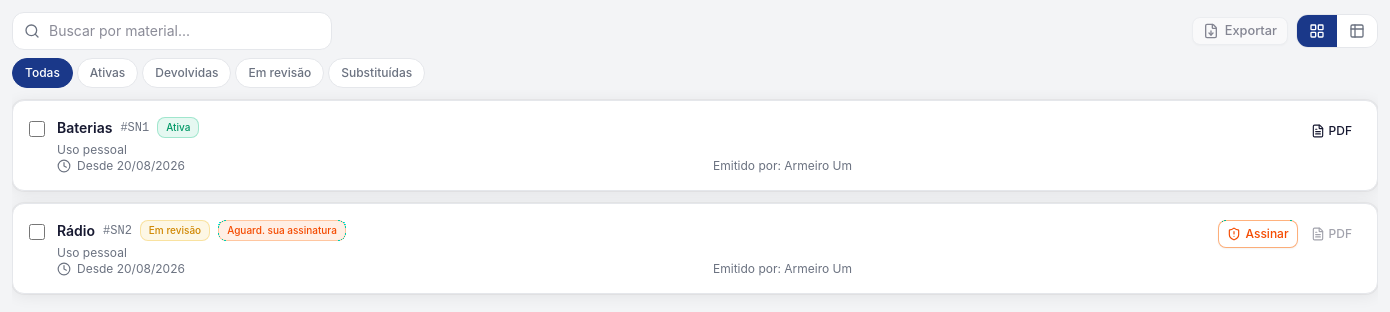
Test case: MinhasCautelasClient — abas de filtro › aba 'Ativas' exclui pendentes de assinatura; 'Em revisão' as inclui
The image size is (1390, 312).
Check: the number of elements with test id "cautela-card" is 2, box [12,100,1378,191]; [12,203,1378,294]
Click the button "Ativas" at point(108, 73), box [77,58,138,88]
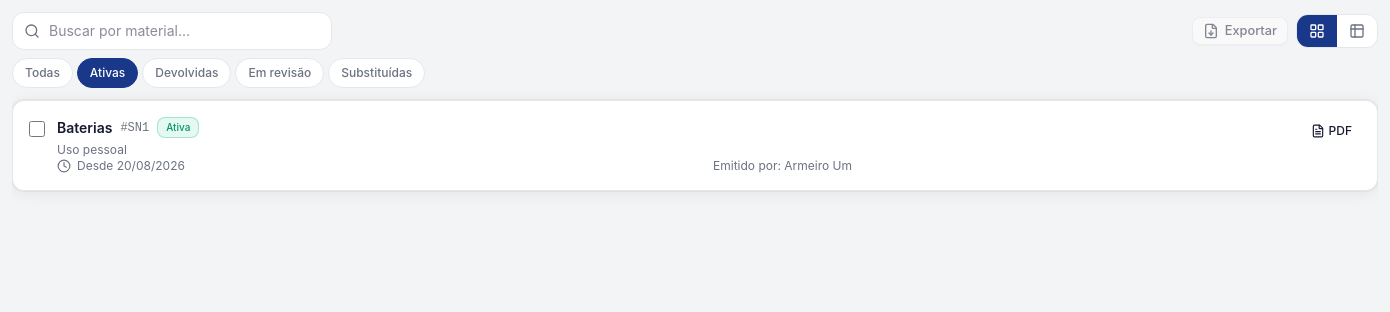
Check: the element with test id "cautela-card" shows "Baterias", box [57,118,112,136]
Check: the number of elements with test id "cautela-card" is 1, box [12,100,1378,191]
Click the button "Em revisão" at point(280, 73), box [235,58,324,88]
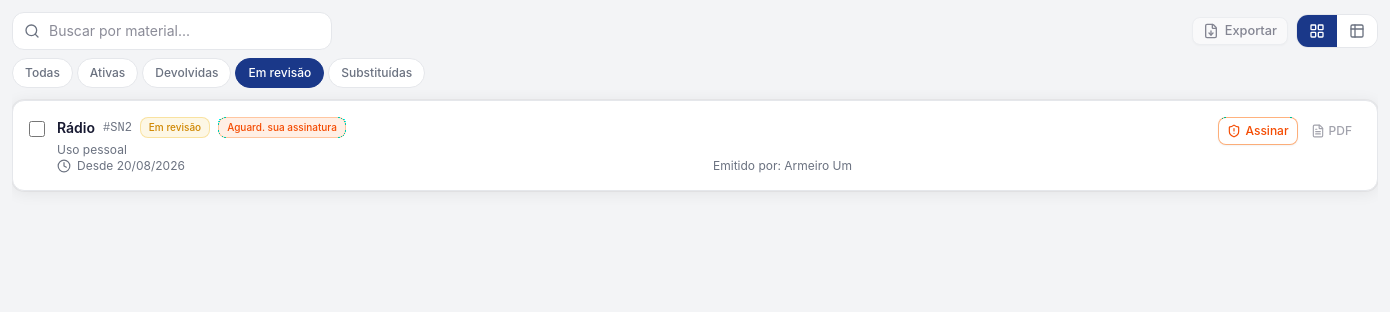
Check: the number of elements with test id "cautela-card" is 1, box [12,100,1378,191]
Check: the element with test id "cautela-card" shows "Rádio", box [57,118,95,136]
